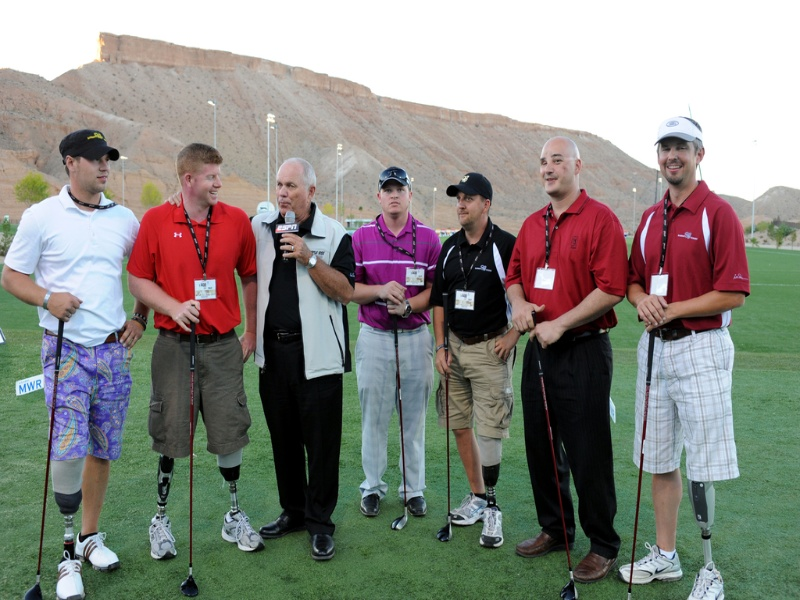person: (148, 126, 262, 576), (29, 120, 127, 590), (638, 113, 728, 600), (528, 129, 620, 576), (264, 141, 355, 570), (438, 173, 523, 547), (357, 159, 435, 518)
